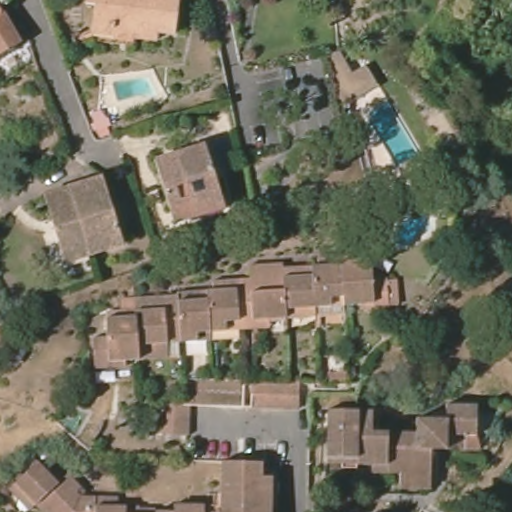pool: (369, 102, 423, 169), (392, 208, 427, 248), (106, 74, 159, 100)
